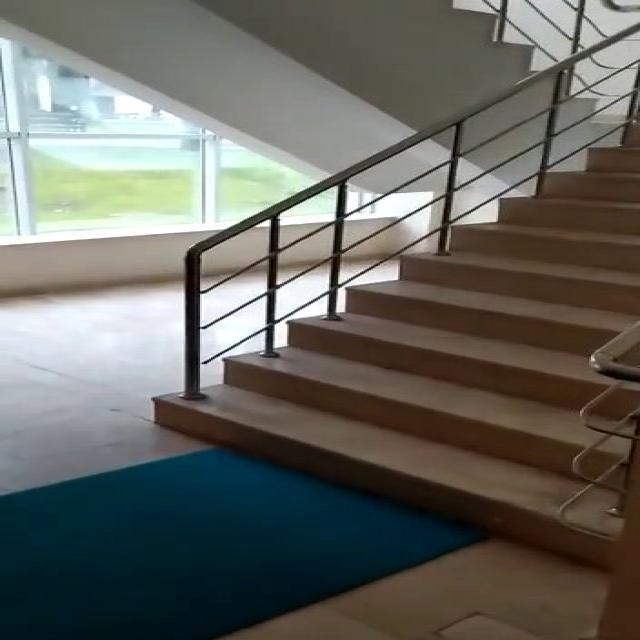stair: (143, 55, 640, 586)
